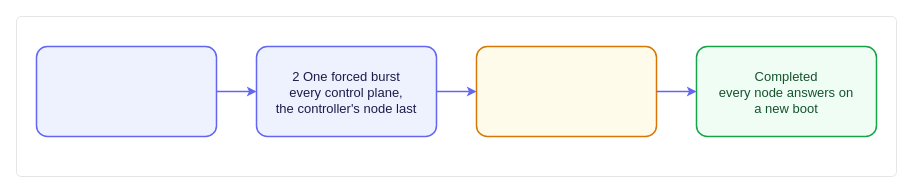
Image size: 913x193. Some labels were removed from this diagram. Here are the shapes that lost their labels. From the top down, the centre of each, then its label:
At point 126,91: "1 Workers drained, then stopped (not the controller's node)".
At point 566,91: "ShutDown nodes are off; you power them on".
